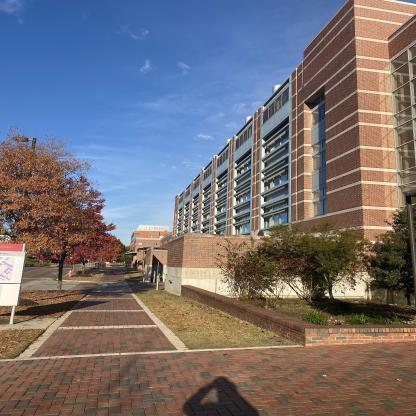EB-1: (177, 6, 416, 294)
